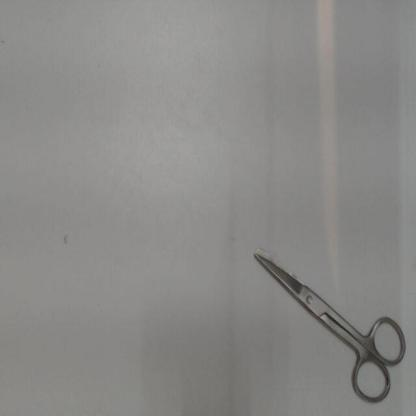Dressing Scissors: (246, 237, 412, 414)
